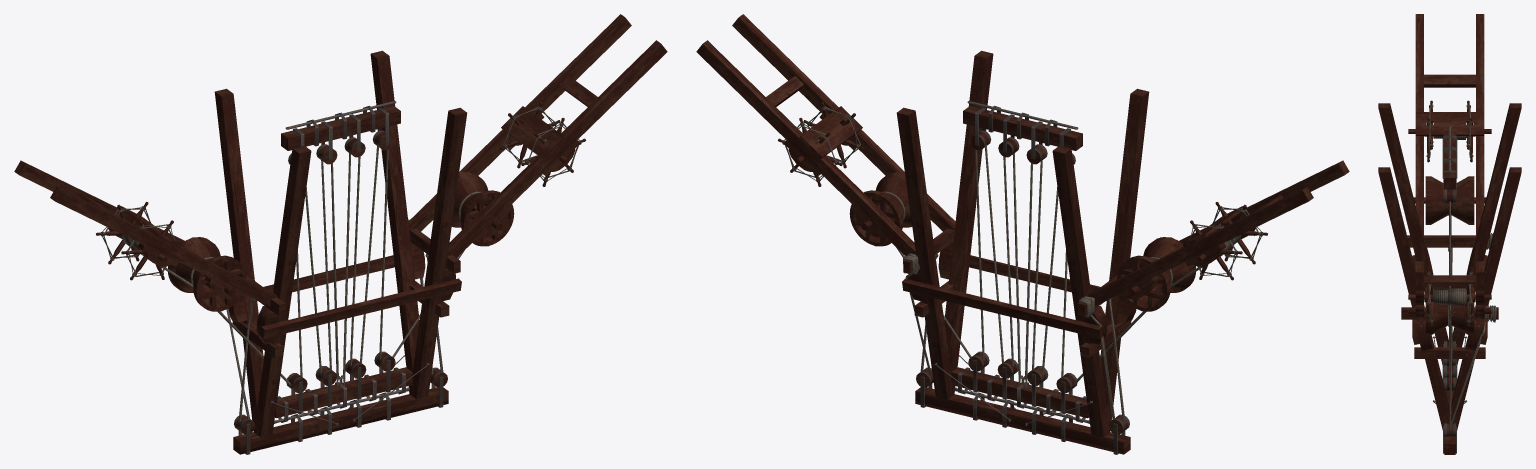
The model's file is geojunggi.glb.
The picture shows the model from 3 angles, left to right: view 1: azimuth 30°, elevation 25°; view 2: azimuth 150°, elevation 25°; view 3: azimuth 270°, elevation 25°; orthographic projection. The views are drawn at different scales.
Visible parts, largest first — view 1: Geojunggi, Geojunggi_LOD1_M_Geojunggi_0, Geojunggi_LOD2_M_Geojunggi_0; view 2: Geojunggi_LOD1_M_Geojunggi_0, Geojunggi, Geojunggi_LOD2_M_Geojunggi_0; view 3: Geojunggi, Geojunggi_LOD1_M_Geojunggi_0, Geojunggi_LOD2_M_Geojunggi_0.
Boxes of the visible parts, x1,y1,x2,y2 form: Geojunggi: (14,14,665,452); Geojunggi_LOD1_M_Geojunggi_0: (15,14,667,453); Geojunggi_LOD2_M_Geojunggi_0: (96,101,585,454); Geojunggi_LOD1_M_Geojunggi_0: (703,19,1348,451); Geojunggi: (696,14,1349,452); Geojunggi_LOD2_M_Geojunggi_0: (778,101,1267,454); Geojunggi: (1378,14,1521,454); Geojunggi_LOD1_M_Geojunggi_0: (1378,14,1521,454); Geojunggi_LOD2_M_Geojunggi_0: (1425,100,1474,454).
Size of the model in its own units: 8.39 by 4.26 by 2.01.
Materials: 1 (1 with a texture image).
